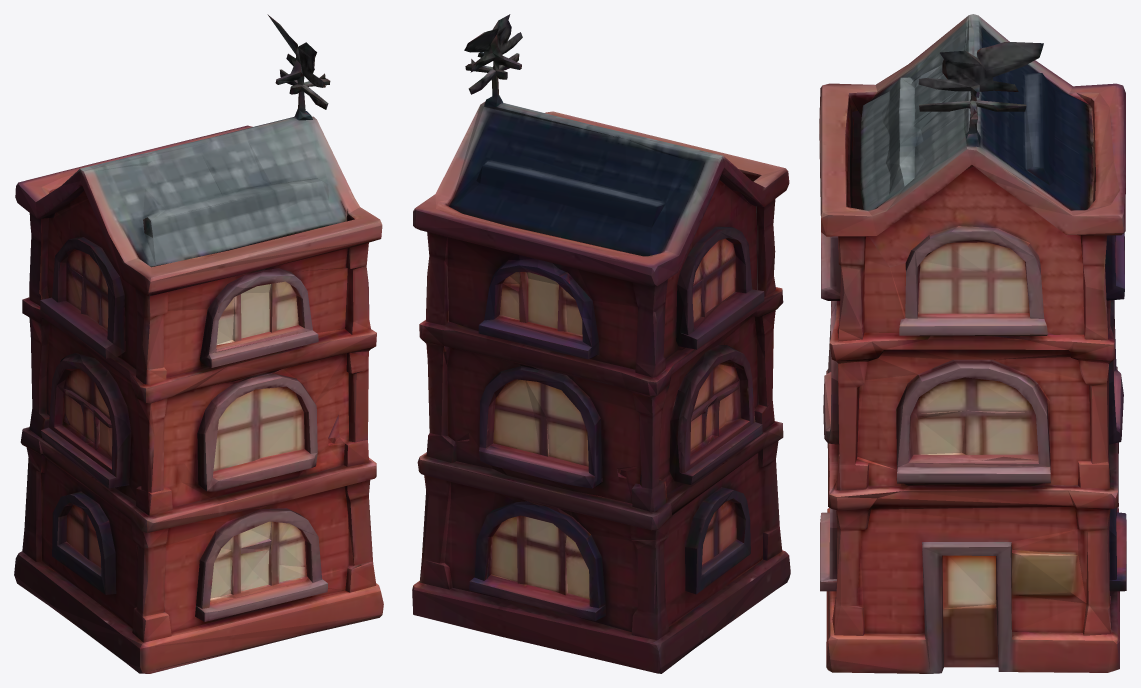
Rendered from b-gazette.glb.
The picture shows the model from 3 angles, left to right: view 1: azimuth 30°, elevation 25°; view 2: azimuth 150°, elevation 25°; view 3: azimuth 270°, elevation 25°; orthographic projection. The views are drawn at different scales.
Parts seen in each view (by area): view 1: geometry_0; view 2: geometry_0; view 3: geometry_0.
Part boxes in pixels (x1,y1,x2,y2): geometry_0: (14, 14, 383, 673); geometry_0: (412, 14, 790, 673); geometry_0: (819, 14, 1126, 673).
Bounding box in the file's own units: 0.4965 × 0.9998 × 0.4507.
1 material, 1 textured.
